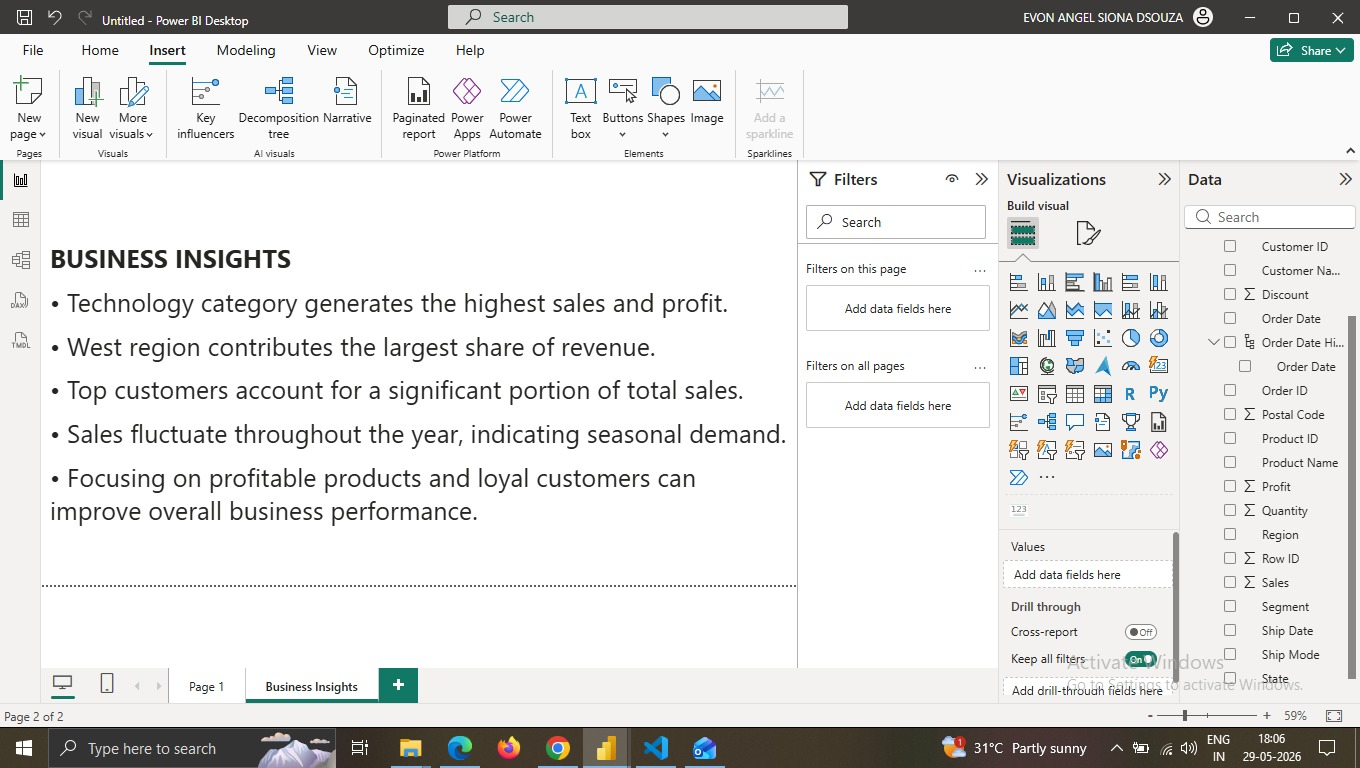

The page's visual inventory and layout, read from the dashboard file:
{"tool":"powerbi","page":{"name":"Business Insights","canvas":[1280,720],"ordinal":1},"visuals":[{"type":"textbox","box":[10.2,132.1,1269.8,533.3],"z":0}]}

Visuals, with their boxes on the page's 1280x720 design canvas (x1, y1, x2, y2). These are canvas units, not pixel positions in the 1360x768 screenshot, which may show the page scaled, cropped or inside an application window:
textbox: box(10, 132, 1280, 665)
